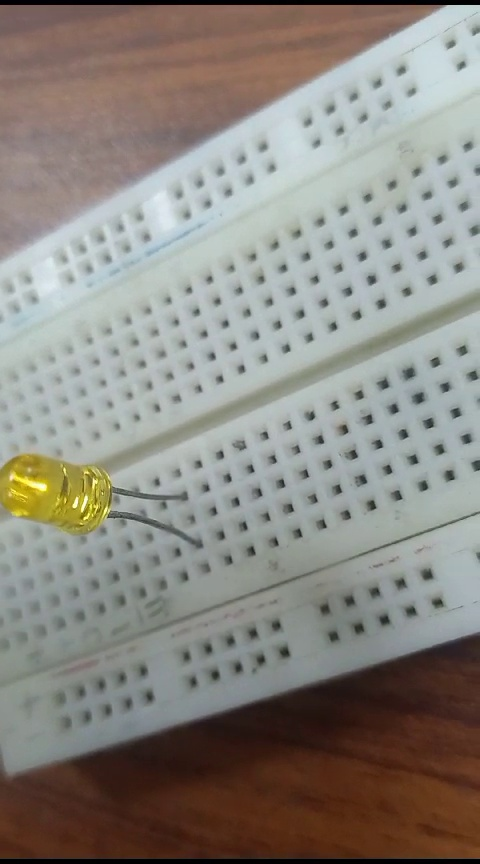LED: (6, 444, 202, 549)
